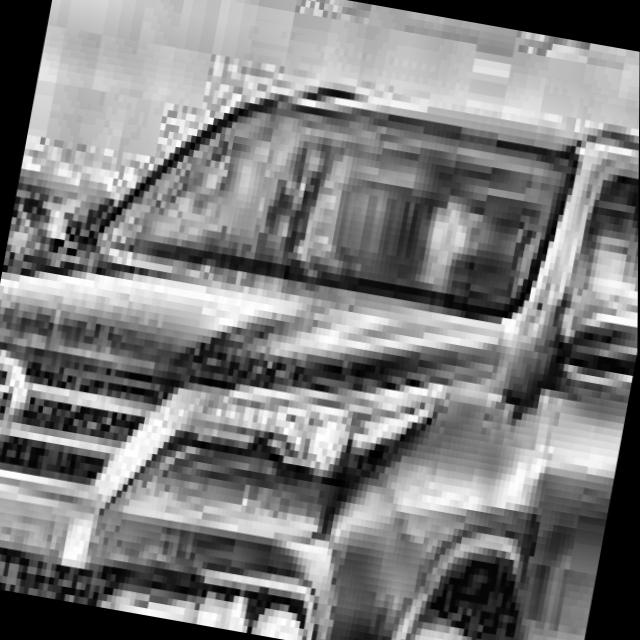light_vehicle: (0, 24, 640, 640)
